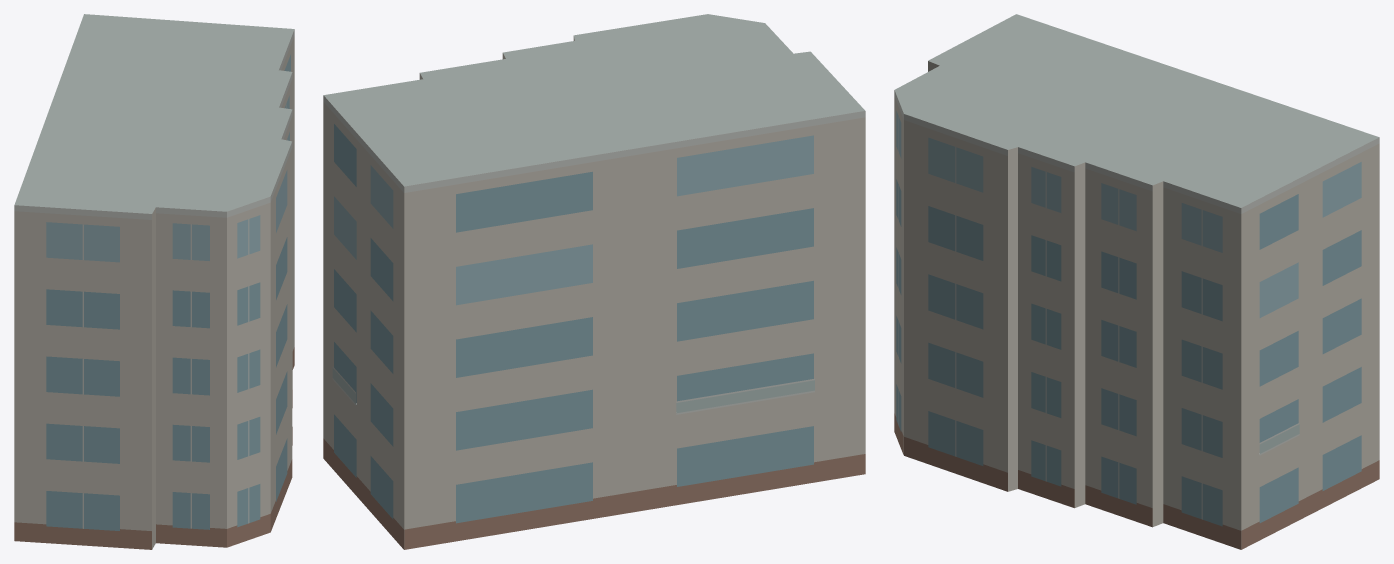
Rendered from survey-upis-32680202.glb.
The picture shows the model from 3 angles, left to right: view 1: azimuth 30°, elevation 25°; view 2: azimuth 150°, elevation 25°; view 3: azimuth 270°, elevation 25°; orthographic projection. The views are drawn at different scales.
Visible parts, largest first — view 1: survey-upis-32680202.tmp; view 2: survey-upis-32680202.tmp; view 3: survey-upis-32680202.tmp.
Part boxes in pixels (x1,y1,x2,y2): survey-upis-32680202.tmp: (14,14,294,549); survey-upis-32680202.tmp: (323,14,865,549); survey-upis-32680202.tmp: (894,14,1379,549).
Bounding box in the file's own units: 16.56 × 13.6 × 17.5.
